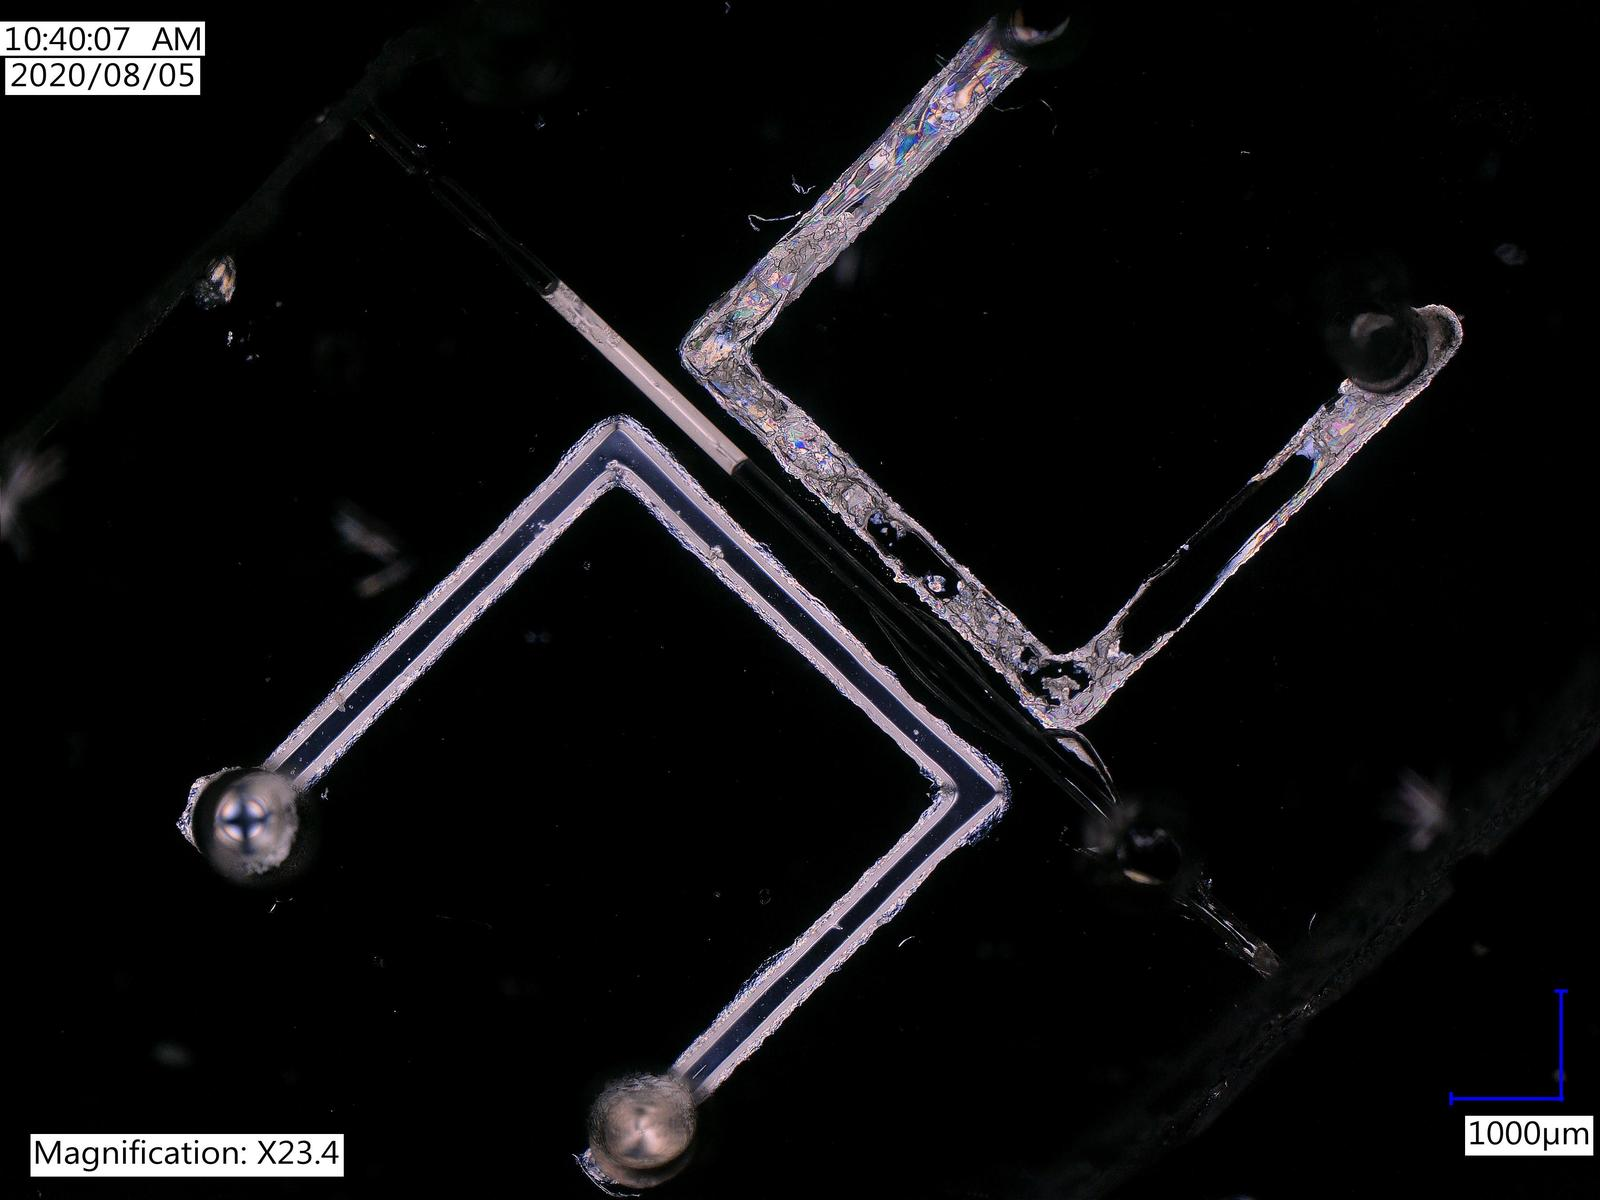sediment: (947, 590, 1019, 655), (707, 359, 780, 411), (810, 466, 868, 500), (1094, 628, 1121, 678), (1043, 674, 1077, 698)
